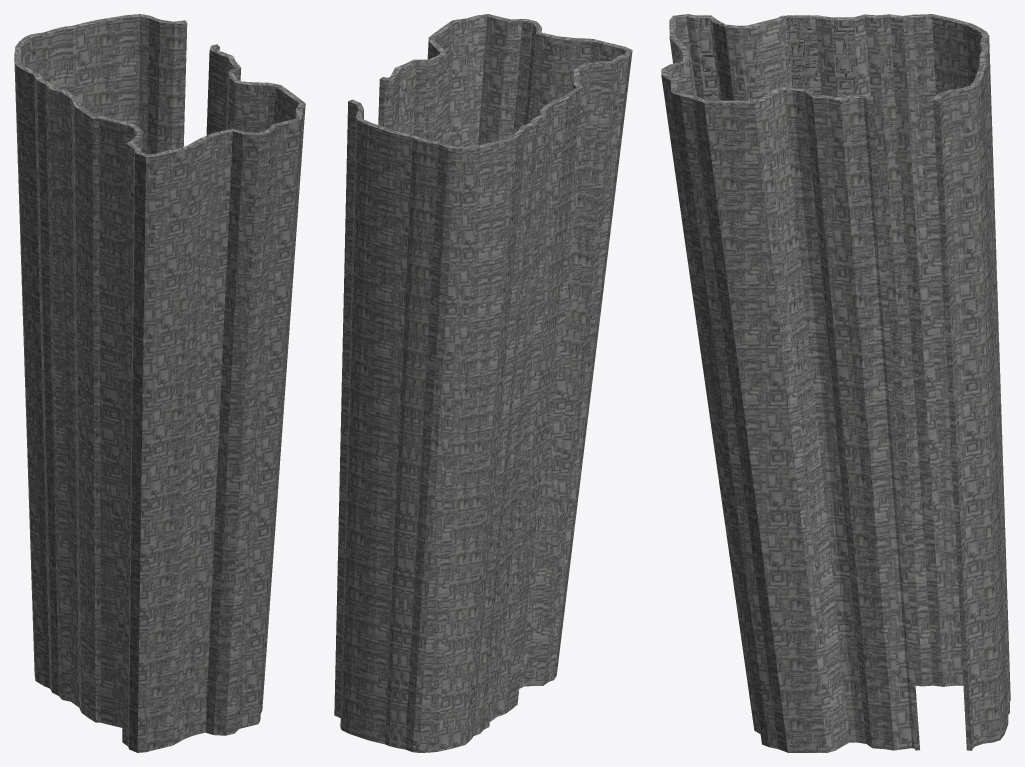
File: Area3_Border.fbx
3 renders of one model, left to right at view 1: azimuth 30°, elevation 25°; view 2: azimuth 150°, elevation 25°; view 3: azimuth 270°, elevation 25°, orthographic. The views are drawn at different scales.
Visible parts, largest first — view 1: Area3_Border; view 2: Area3_Border; view 3: Area3_Border.
Part boxes in pixels (left/top/right/bottom): Area3_Border: left=14, top=14, right=305, bottom=752; Area3_Border: left=334, top=14, right=632, bottom=752; Area3_Border: left=661, top=14, right=1010, bottom=752.
Bounding box in the file's own units: 1590 × 5403 × 2629.
1 material, 1 textured.
